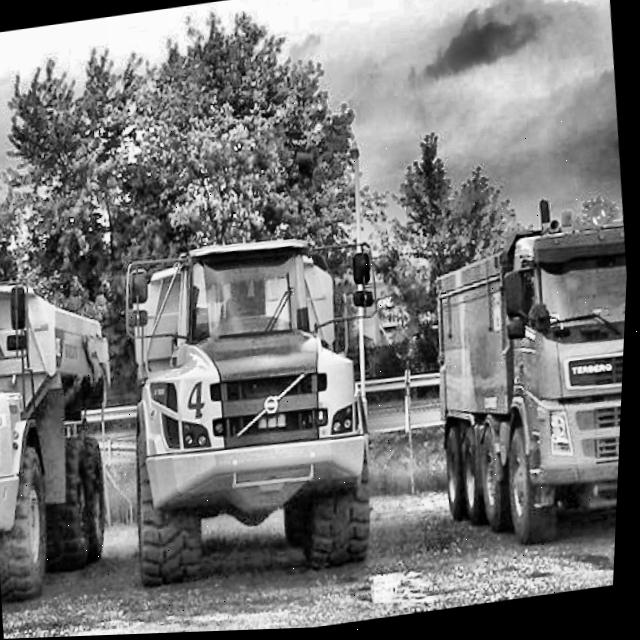dump_truck: (97, 207, 417, 614), (411, 213, 632, 568), (0, 230, 130, 617)
